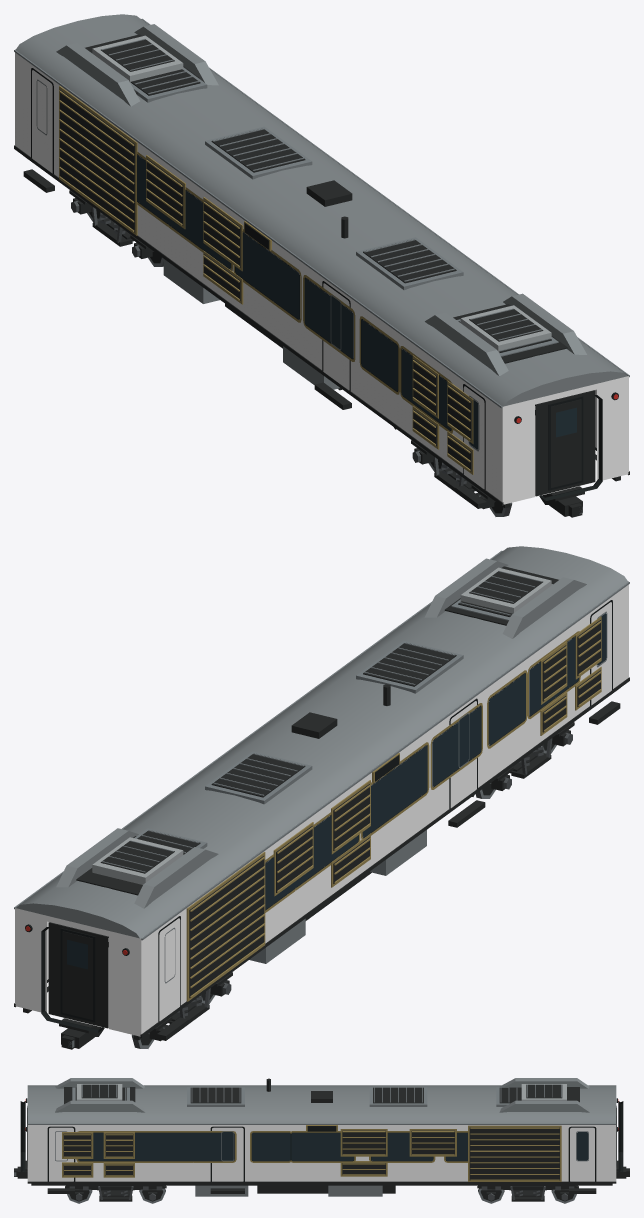
Rendered from nusantara-explorer-low-packed.glb.
3 views of the same model, one above another, from view 1: azimuth 30°, elevation 25°; view 2: azimuth 150°, elevation 25°; view 3: azimuth 270°, elevation 25° (orthographic). The views are drawn at different scales.
Parts seen in each view (by area): view 1: passenger-body (×6), rail-bogie--1, rail-bogie-1; view 2: passenger-body (×6), rail-bogie-1, rail-bogie--1; view 3: passenger-body (×5), rail-bogie--1, rail-bogie-1.
Part boxes in pixels (x1,y1,x2,y2): passenger-body (×6): (14,14,629,516); rail-bogie--1: (69,190,152,258); rail-bogie-1: (411,440,494,509); passenger-body (×6): (14,546,629,1048); rail-bogie-1: (491,722,574,790); rail-bogie--1: (149,972,232,1041); passenger-body (×5): (17,1078,626,1196); rail-bogie--1: (477,1185,578,1201); rail-bogie-1: (65,1185,166,1201).
Size of the model in its own units: 3.23 by 3.95 by 20.04.
